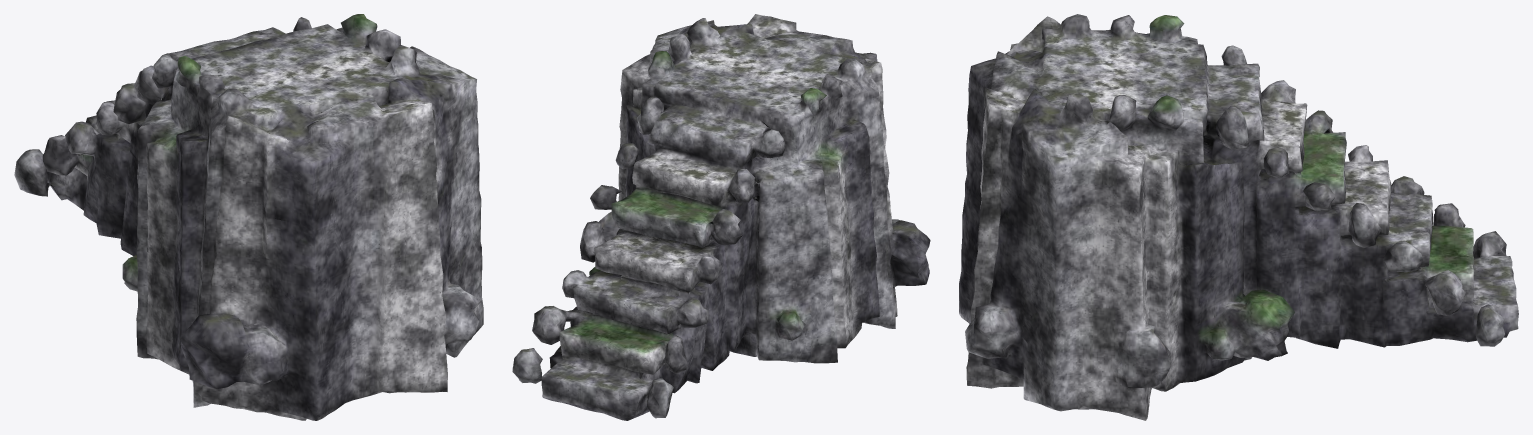
Rendered from wizards-crag.glb.
3 views of the same model, side by side, from view 1: azimuth 30°, elevation 25°; view 2: azimuth 150°, elevation 25°; view 3: azimuth 270°, elevation 25° (orthographic). The views are drawn at different scales.
Visible parts, largest first — view 1: wizards-crag; view 2: wizards-crag; view 3: wizards-crag.
Boxes of the visible parts, box(x1,y1,x2,y2) form: wizards-crag: box(14, 14, 483, 420); wizards-crag: box(512, 14, 930, 420); wizards-crag: box(959, 14, 1518, 420).
Bounding box in the file's own units: 9.56 × 8.76 × 14.72.
1 material, 1 textured.
